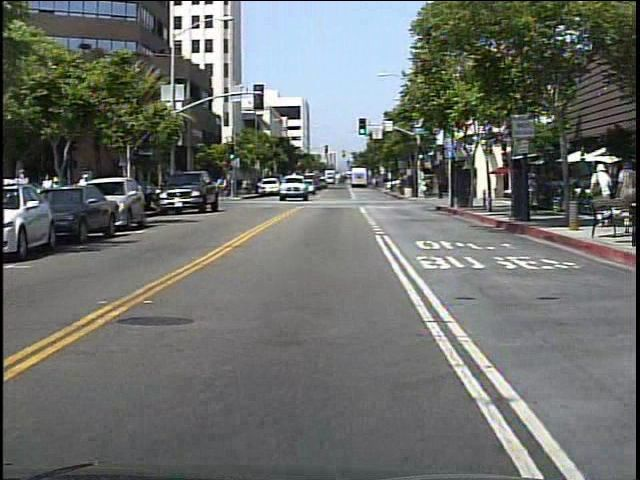person: (593, 158, 624, 226), (219, 174, 230, 202), (419, 177, 430, 200)
